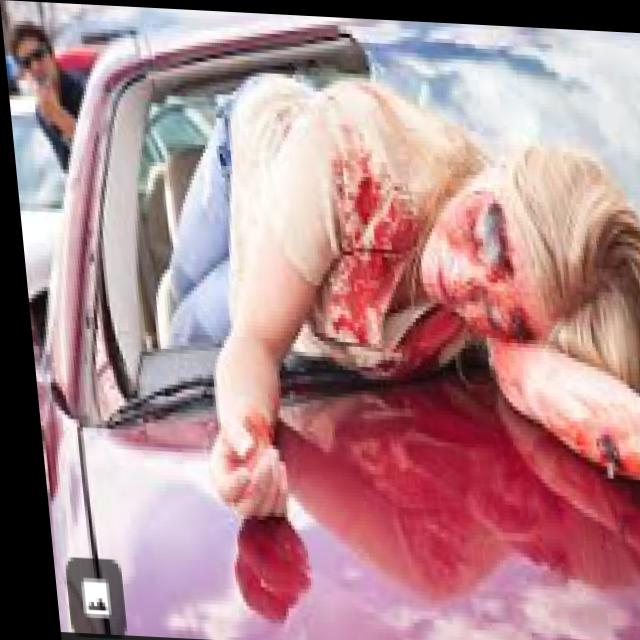injury: (389, 125, 640, 381), (460, 193, 513, 288), (486, 299, 543, 344), (592, 429, 633, 481)
